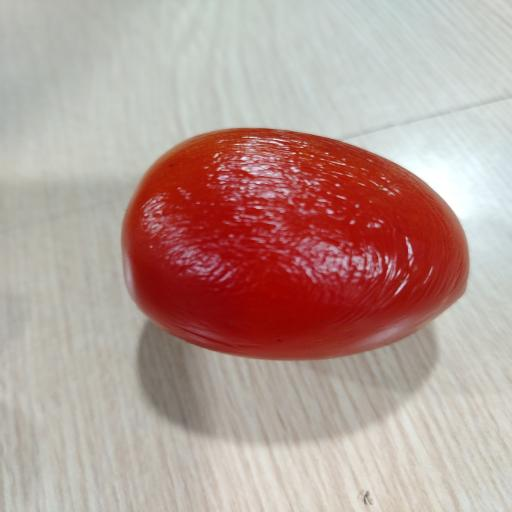spoiled: (122, 129, 468, 359)
